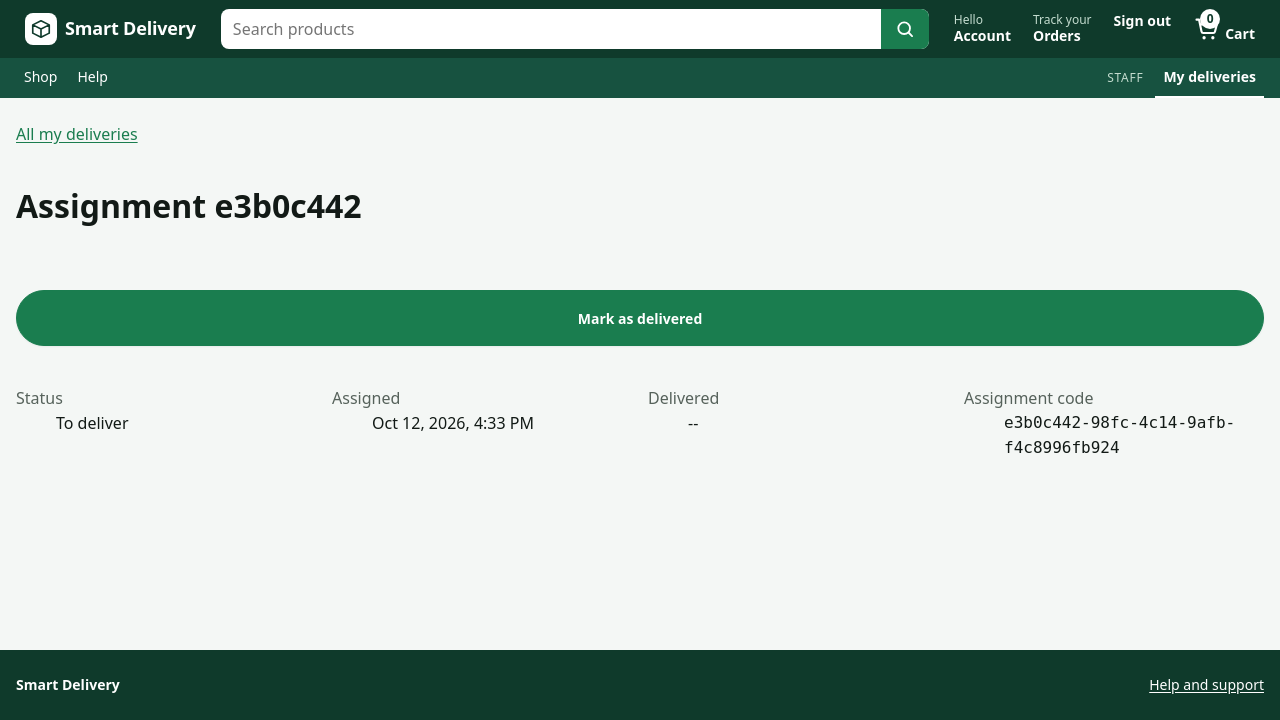
Scenario: completing a delivery › asks first, then posts once and announces the result
What coordinates should you click on to do the following:
click the button "Mark as delivered"
I would click on:
 (640, 318)
Its box is [16,290,1264,346].
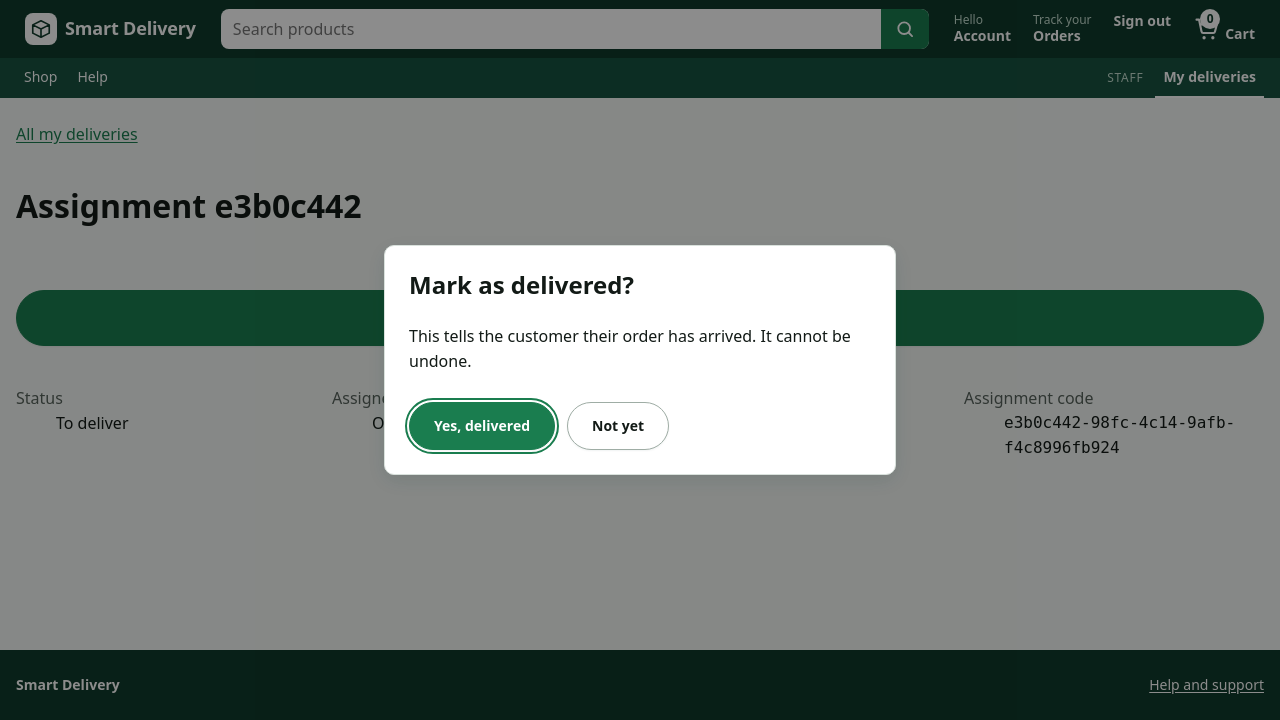
What coordinates should you click on to do the following:
click the button "Yes, delivered"
I would click on:
 (482, 426)
Its box is [409,402,555,450].
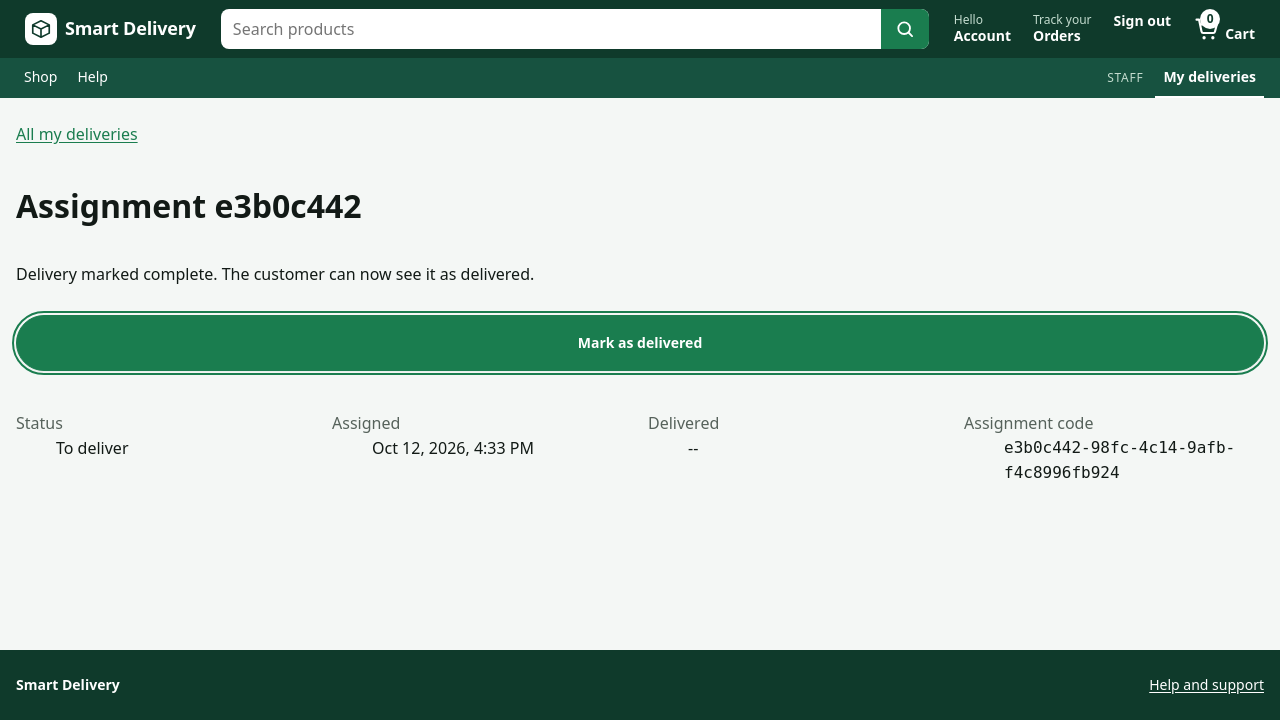
Result: the text "Delivery marked complete. The customer can now see it as delivered." is shown at [16,264,534,286]
